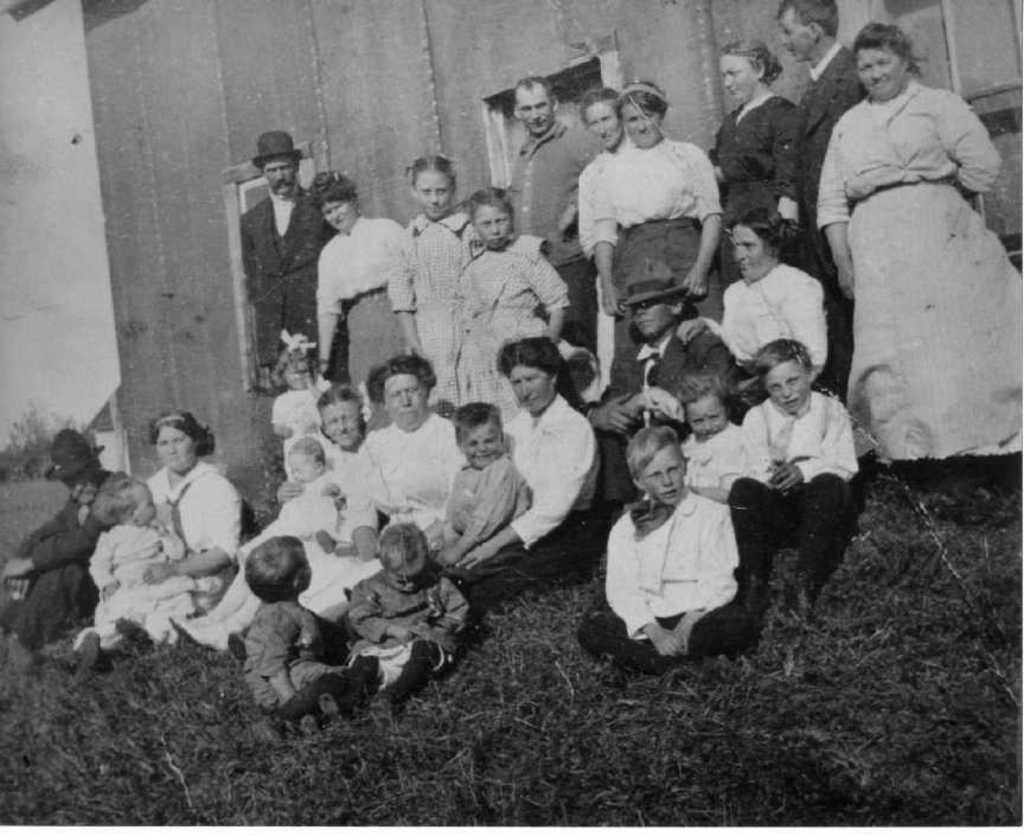Person: (0, 0, 1022, 734)
